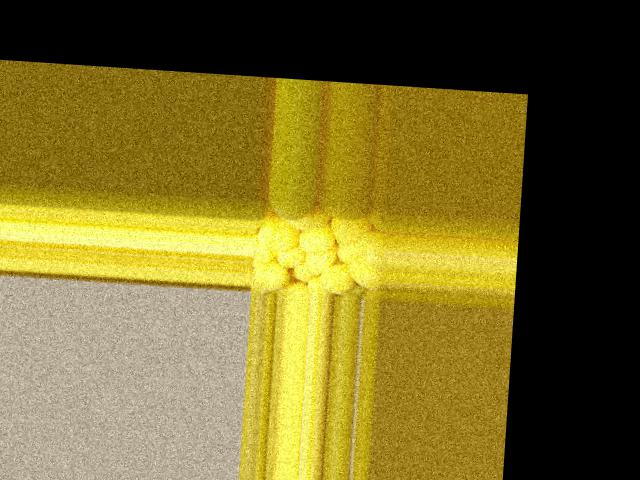lemon: (315, 263, 364, 297)
